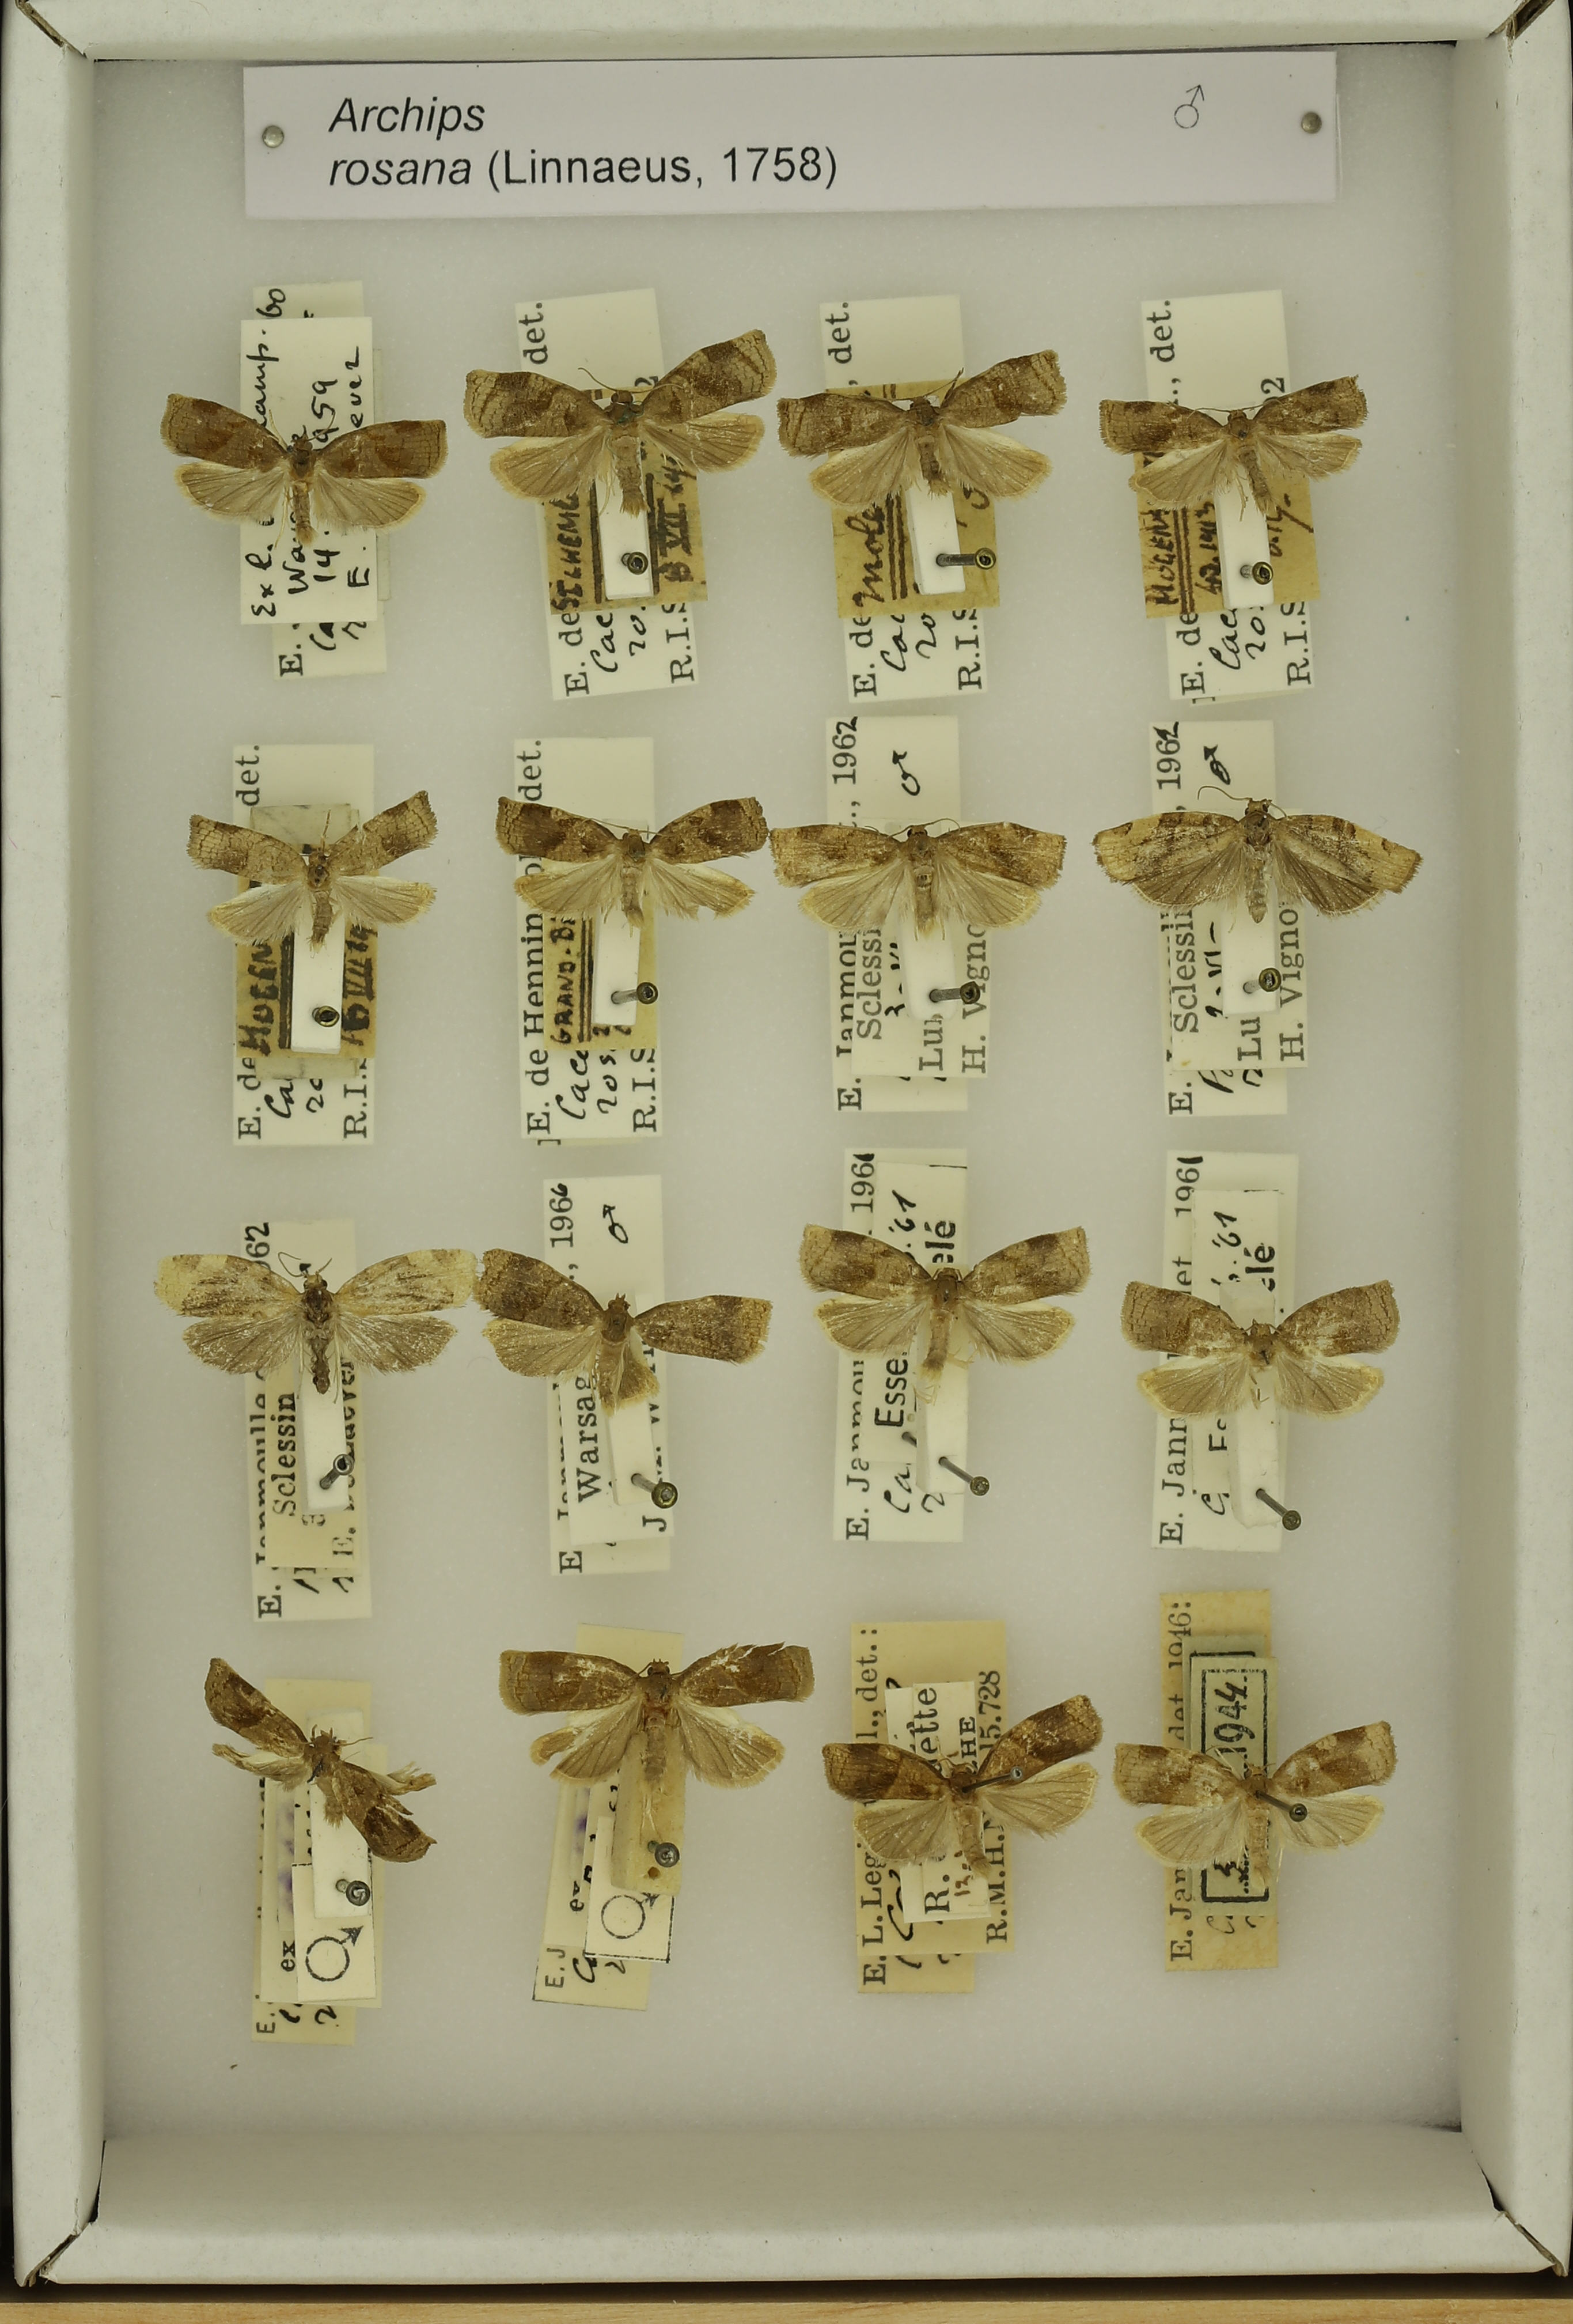insect: (465, 319, 779, 518), (147, 1237, 483, 1399), (820, 1690, 1104, 1878), (198, 1650, 439, 1866), (774, 341, 1073, 509), (495, 1641, 820, 1796), (476, 1246, 779, 1411), (797, 1216, 1094, 1385), (1088, 783, 1433, 927), (154, 386, 455, 544), (1110, 1718, 1399, 1876), (1090, 370, 1382, 521), (1117, 1273, 1404, 1422), (492, 788, 769, 934), (186, 785, 441, 943), (769, 811, 1069, 939)
